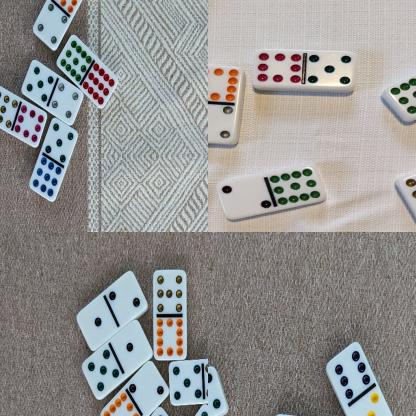pip-1: (113, 319, 152, 367), (76, 299, 112, 349)
pip-10: (153, 315, 186, 359), (208, 63, 239, 103), (99, 390, 139, 416)
pip-11: (270, 165, 324, 205), (56, 34, 91, 82), (386, 72, 416, 118)
pip-12: (82, 62, 118, 107)
pip-2: (215, 177, 273, 220), (108, 270, 146, 321), (128, 360, 169, 406)
pip-3: (353, 390, 395, 416)
pip-4: (32, 1, 67, 50), (51, 81, 83, 125), (208, 101, 235, 143)
pip-5: (80, 346, 118, 400), (304, 50, 354, 88), (169, 360, 203, 406), (44, 118, 78, 163), (21, 59, 54, 102), (208, 366, 225, 416)
pip-6: (325, 342, 370, 400)
pip-7: (153, 268, 187, 314), (396, 165, 416, 209), (0, 83, 18, 128)
pip-8: (254, 47, 304, 89), (13, 106, 46, 146)
pip-9: (29, 155, 62, 201)
